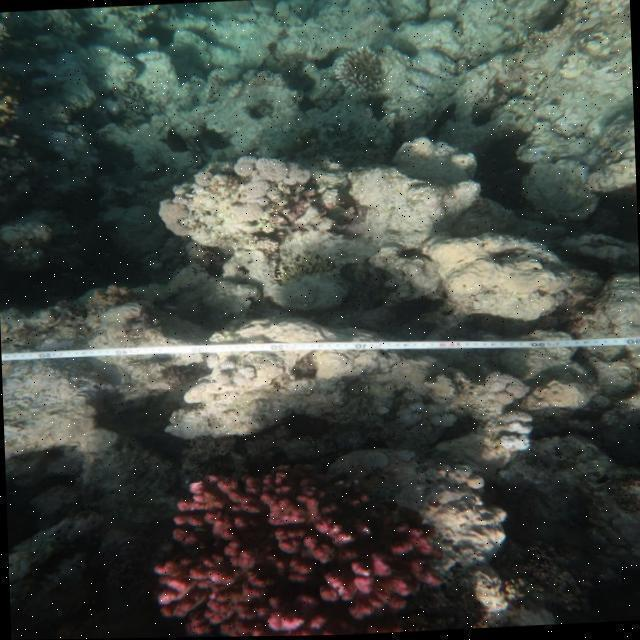Healthy Coral: (131, 467, 446, 639), (333, 38, 395, 107)
